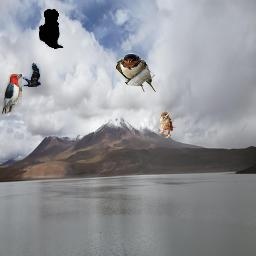Crow: (39, 9, 64, 49), (22, 63, 41, 87)
Sparrow: (158, 111, 176, 138)
Swallow: (116, 53, 156, 92)
Woodpecker: (2, 74, 22, 114)
